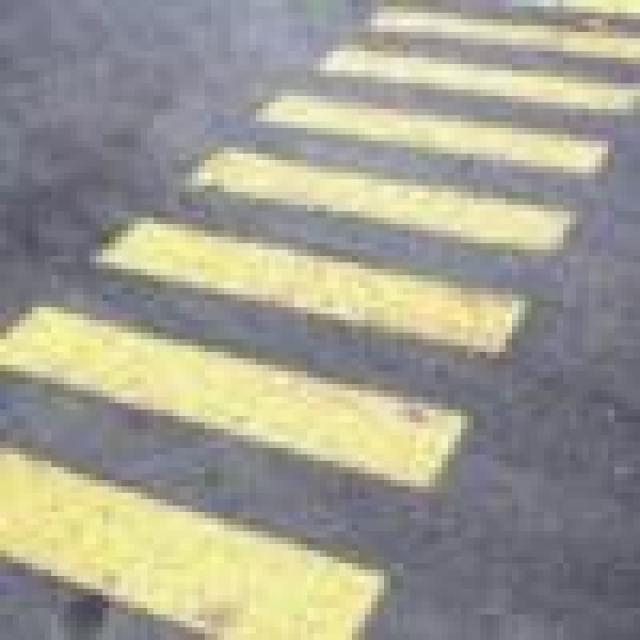zebra: (0, 1, 640, 638)
